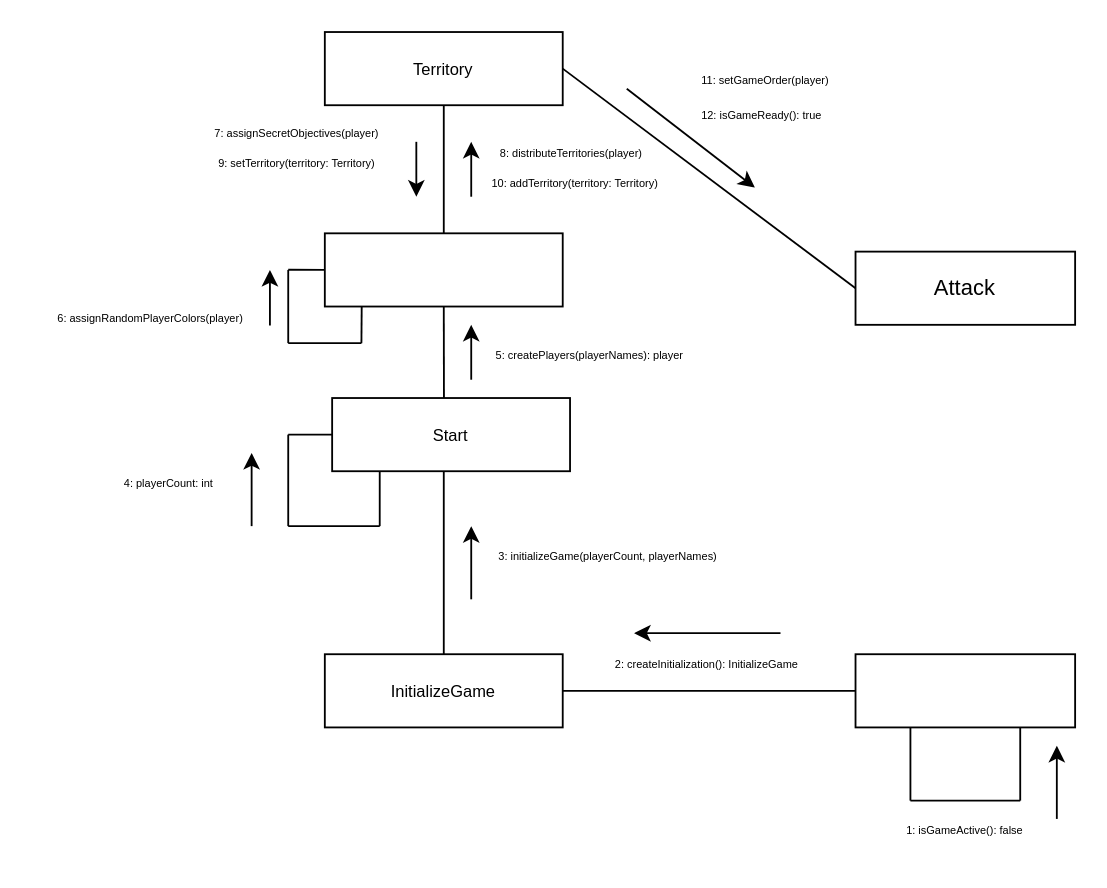
Image size: 1107x888. Some labels were removed from this diagram. Here are the shapes that lost their labels. From the top down, the box of each, then its label:
(323, 231, 563, 307): Player
(854, 652, 1075, 727): Factory
